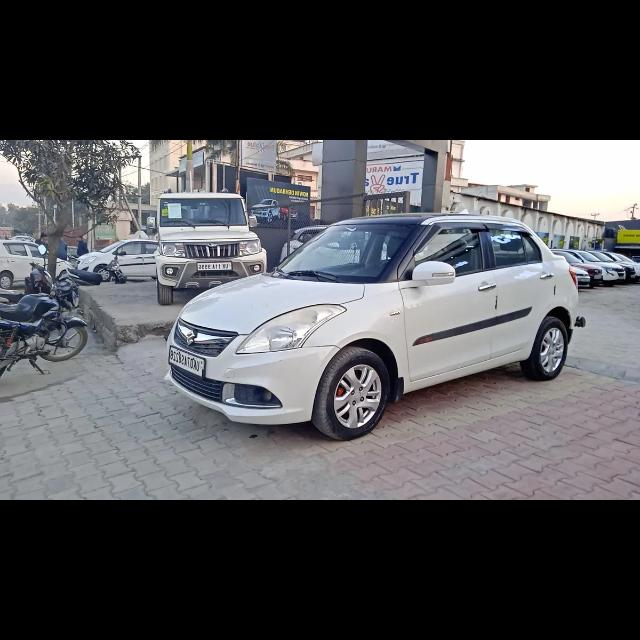number-plate: (172, 345, 207, 378), (198, 261, 233, 271)
vehicles: (165, 217, 587, 438), (147, 187, 263, 308), (0, 238, 72, 290), (78, 239, 159, 282), (551, 249, 621, 288), (281, 224, 334, 264), (626, 256, 640, 283)
